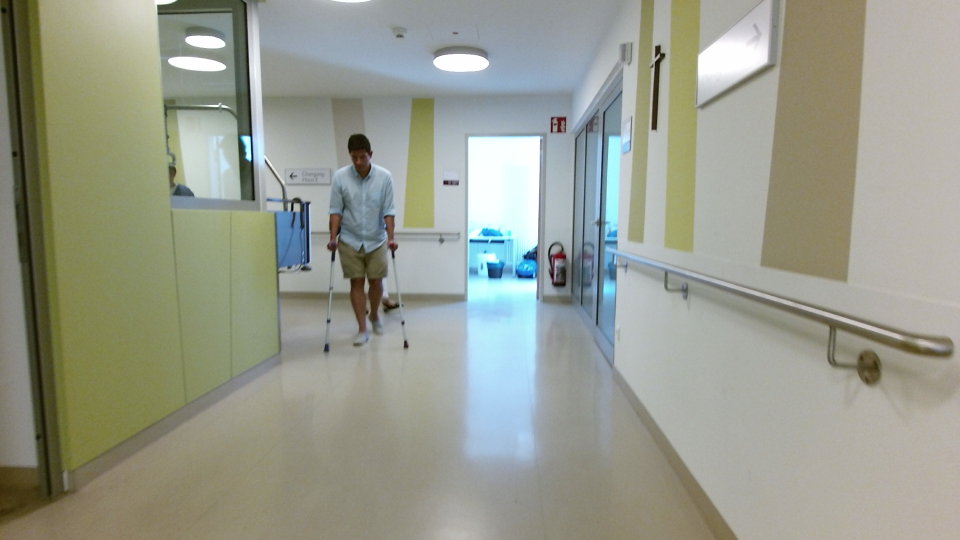crutches: (316, 130, 415, 360)
